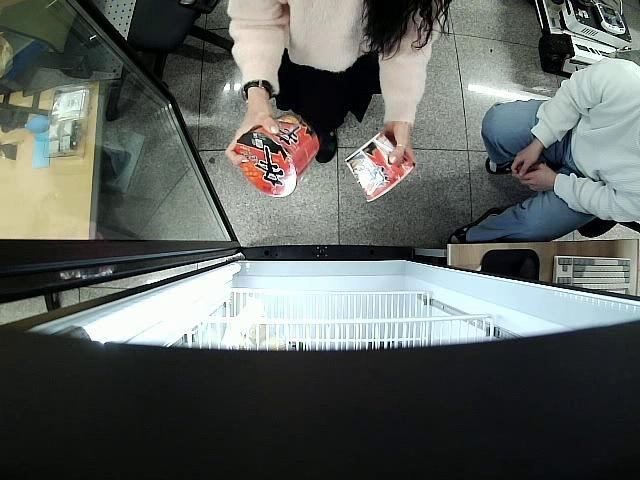01_ShinRamen_L: (234, 110, 322, 198), (344, 130, 417, 204)
